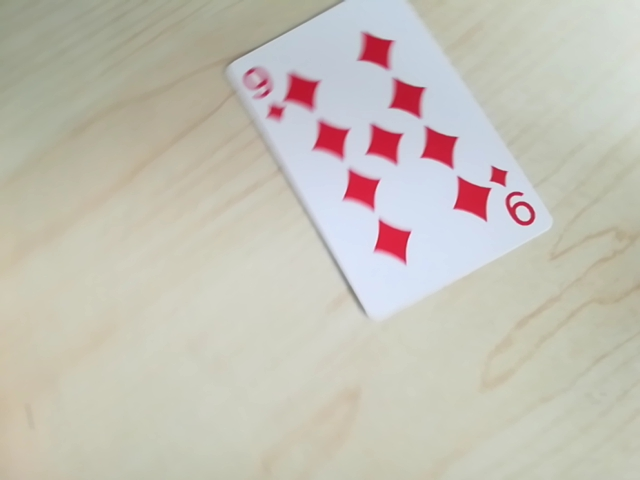fk 9: (489, 168, 541, 234), (240, 61, 289, 120)
